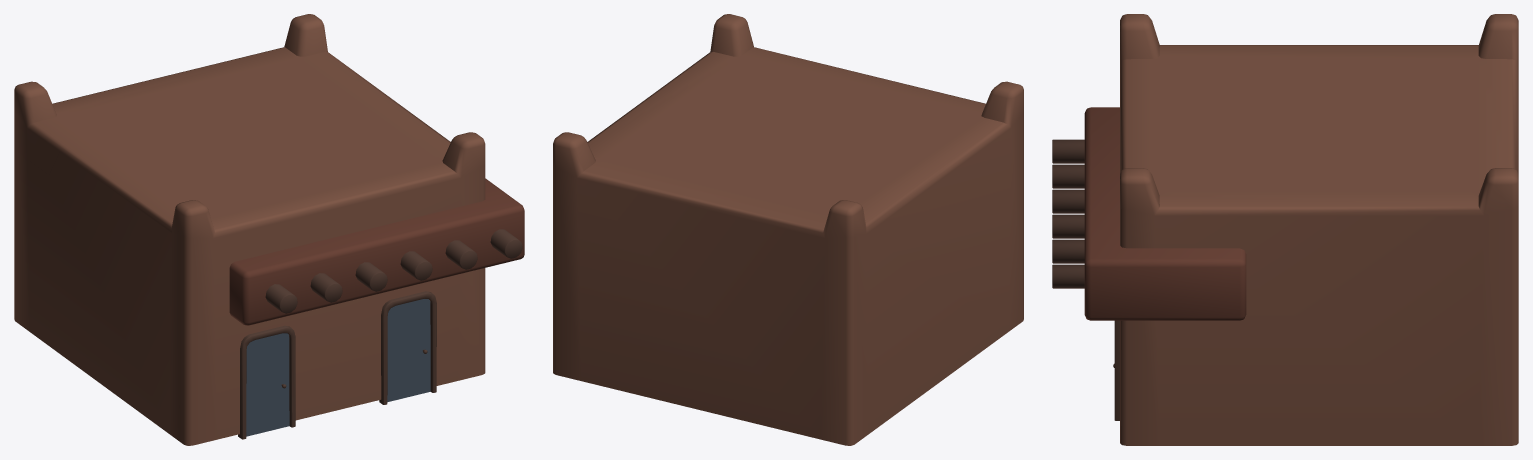
The model's file is BuildingCluster_b01.fbx.
3 renders of one model, left to right at view 1: azimuth 30°, elevation 25°; view 2: azimuth 150°, elevation 25°; view 3: azimuth 270°, elevation 25°, orthographic. The views are drawn at different scales.
Parts seen in each view (by area): view 1: base.004; view 2: base.004; view 3: base.004.
Part boxes in pixels (x1=…): base.004: x1=14, y1=14, x2=524, y2=445; base.004: x1=553, y1=14, x2=1023, y2=445; base.004: x1=1052, y1=14, x2=1518, y2=445.
Bounding box in the file's own units: 675 × 475 × 738.
